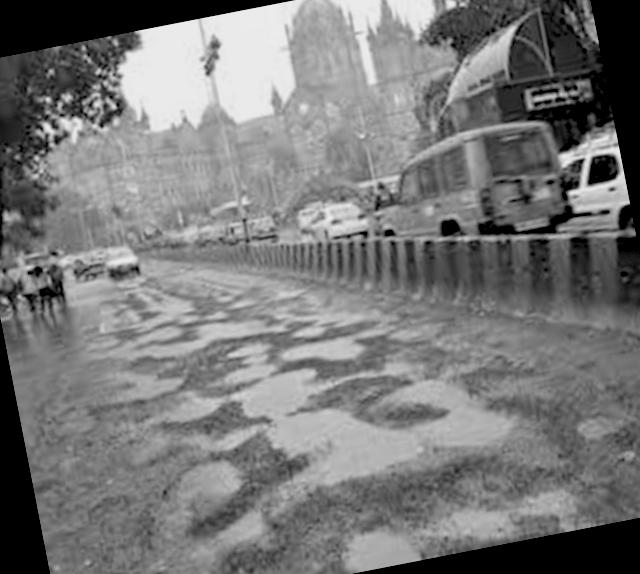Pothole: (99, 317, 514, 574), (78, 303, 270, 385)
